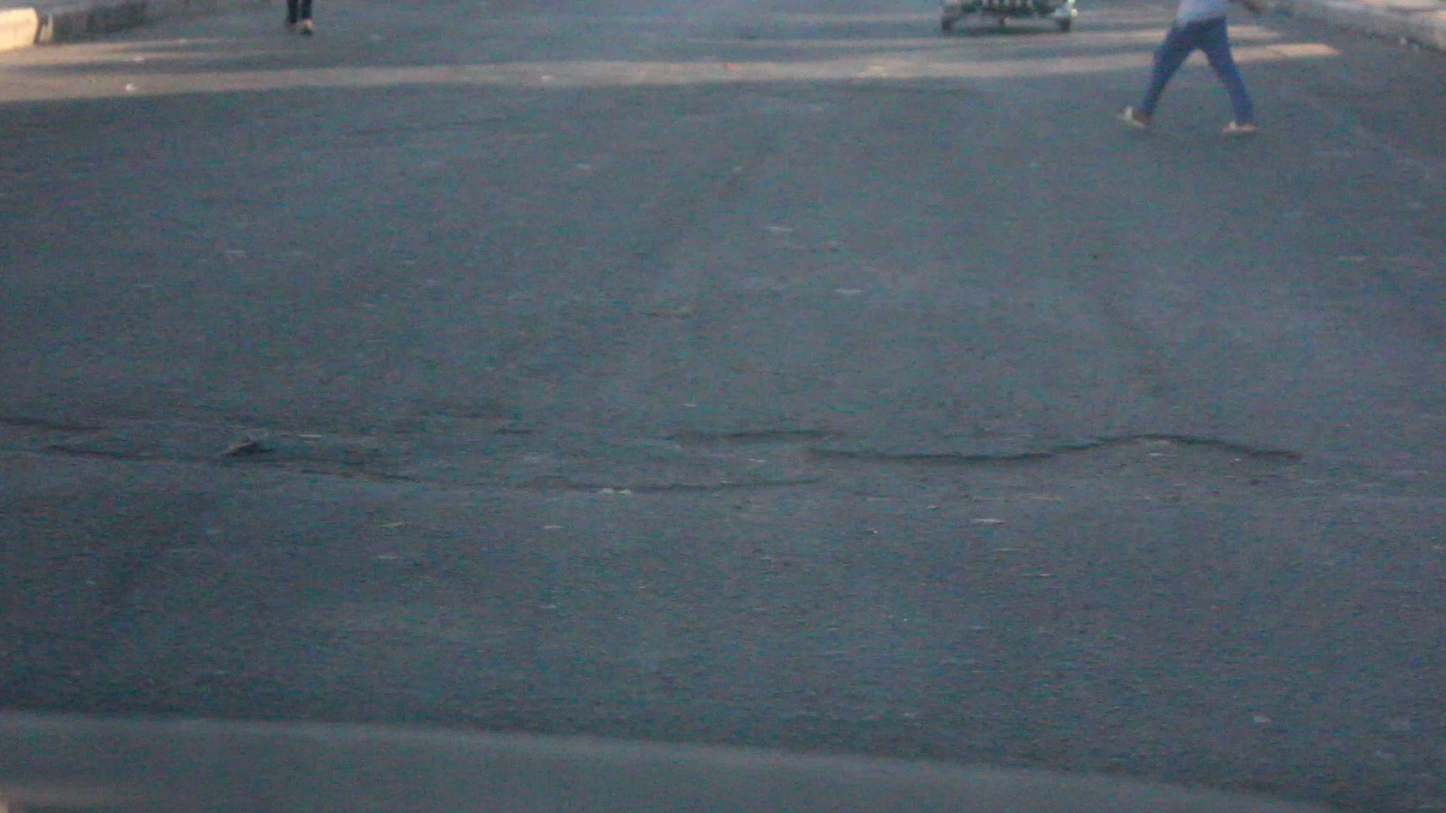Pothole: (21, 380, 1412, 538)
